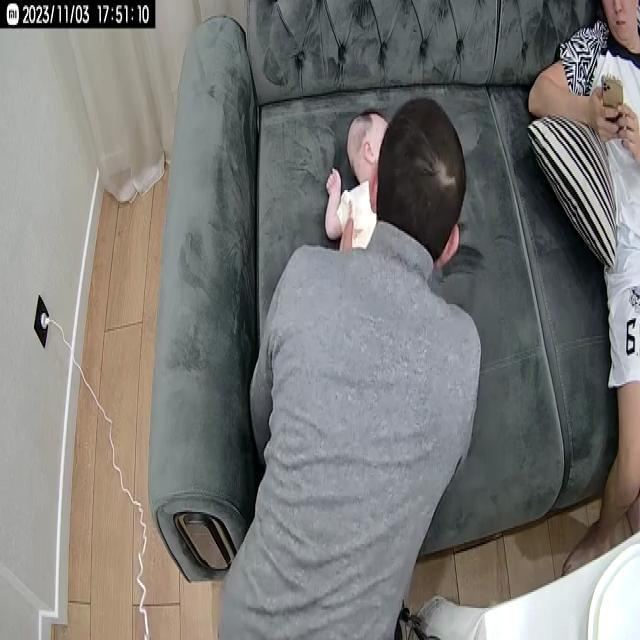baby: (324, 106, 394, 260)
